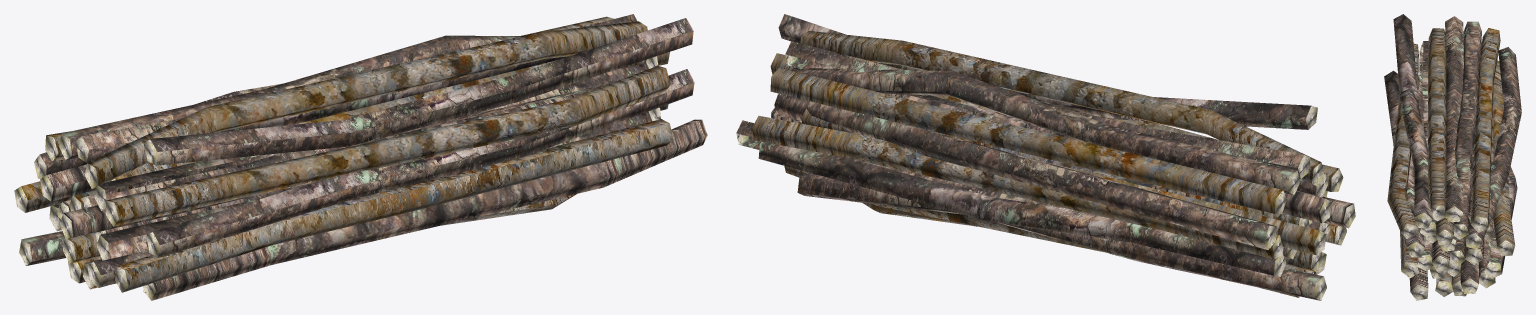
File: wood_pile.fbx
The picture shows the model from 3 angles, left to right: view 1: azimuth 30°, elevation 25°; view 2: azimuth 150°, elevation 25°; view 3: azimuth 270°, elevation 25°; orthographic projection. The views are drawn at different scales.
Parts seen in each view (by area): view 1: Cylinder.009; view 2: Cylinder.009; view 3: Cylinder.009.
Boxes of the visible parts, x1,y1,x2,y2 form: Cylinder.009: (14,14,707,300); Cylinder.009: (736,14,1355,300); Cylinder.009: (1384,14,1521,300).
Bounding box in the file's own units: 779 × 234 × 218.
3 materials, 3 textured.
